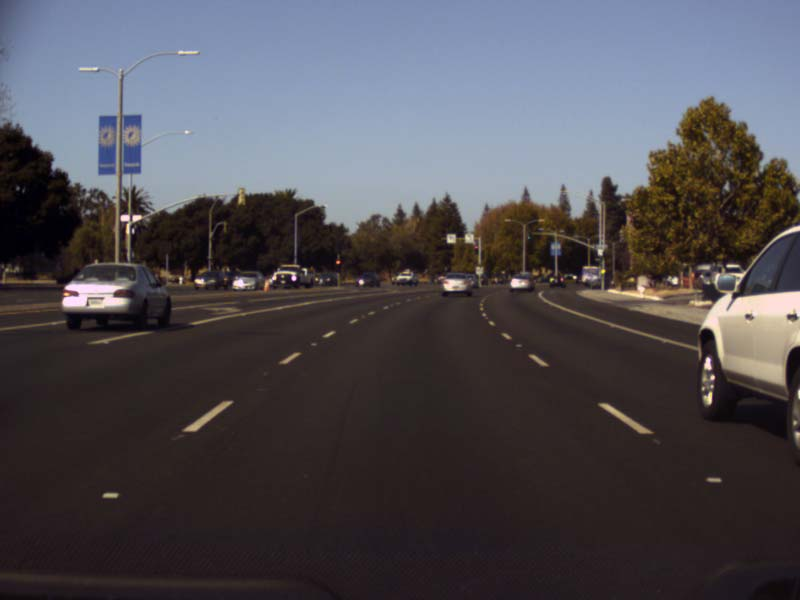Green: (526, 233, 531, 243)
Yellow: (474, 244, 478, 254)
